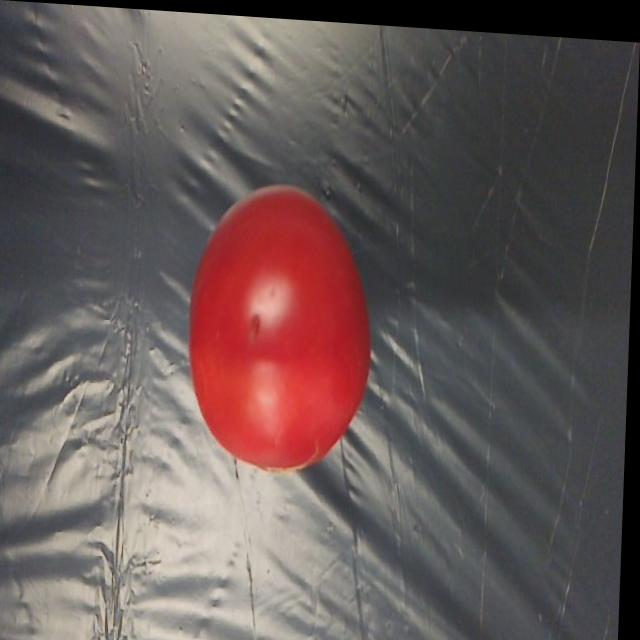kirmizi: (171, 162, 390, 485)
